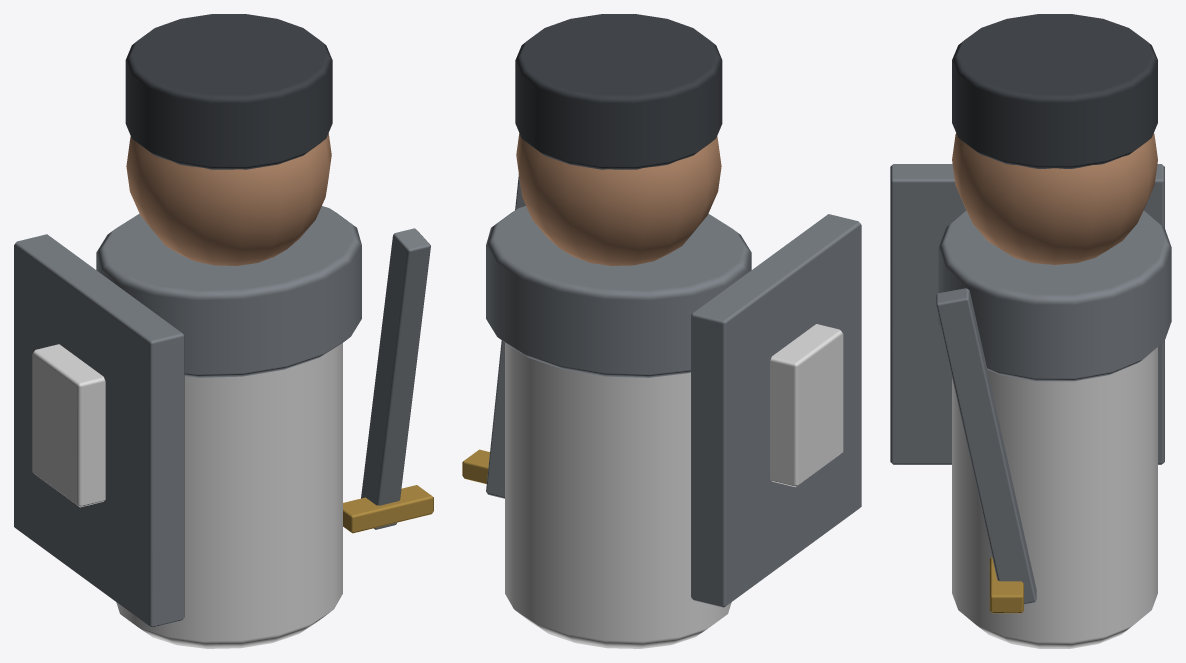
The model's file is warden.19521853.glb.
The picture shows the model from 3 angles, left to right: view 1: azimuth 30°, elevation 25°; view 2: azimuth 150°, elevation 25°; view 3: azimuth 270°, elevation 25°; orthographic projection.
Visible parts, largest first — view 1: body, accent; view 2: body, accent; view 3: body, accent.
Part boxes in pixels (box(x1,y1,x2,y2)): body: box(14, 14, 433, 627); accent: box(32, 343, 342, 648); body: box(462, 14, 861, 607); accent: box(505, 324, 843, 648); body: box(890, 14, 1171, 613); accent: box(952, 347, 1157, 648).
Size of the model in its own units: 0.605 by 0.89 by 0.41.
